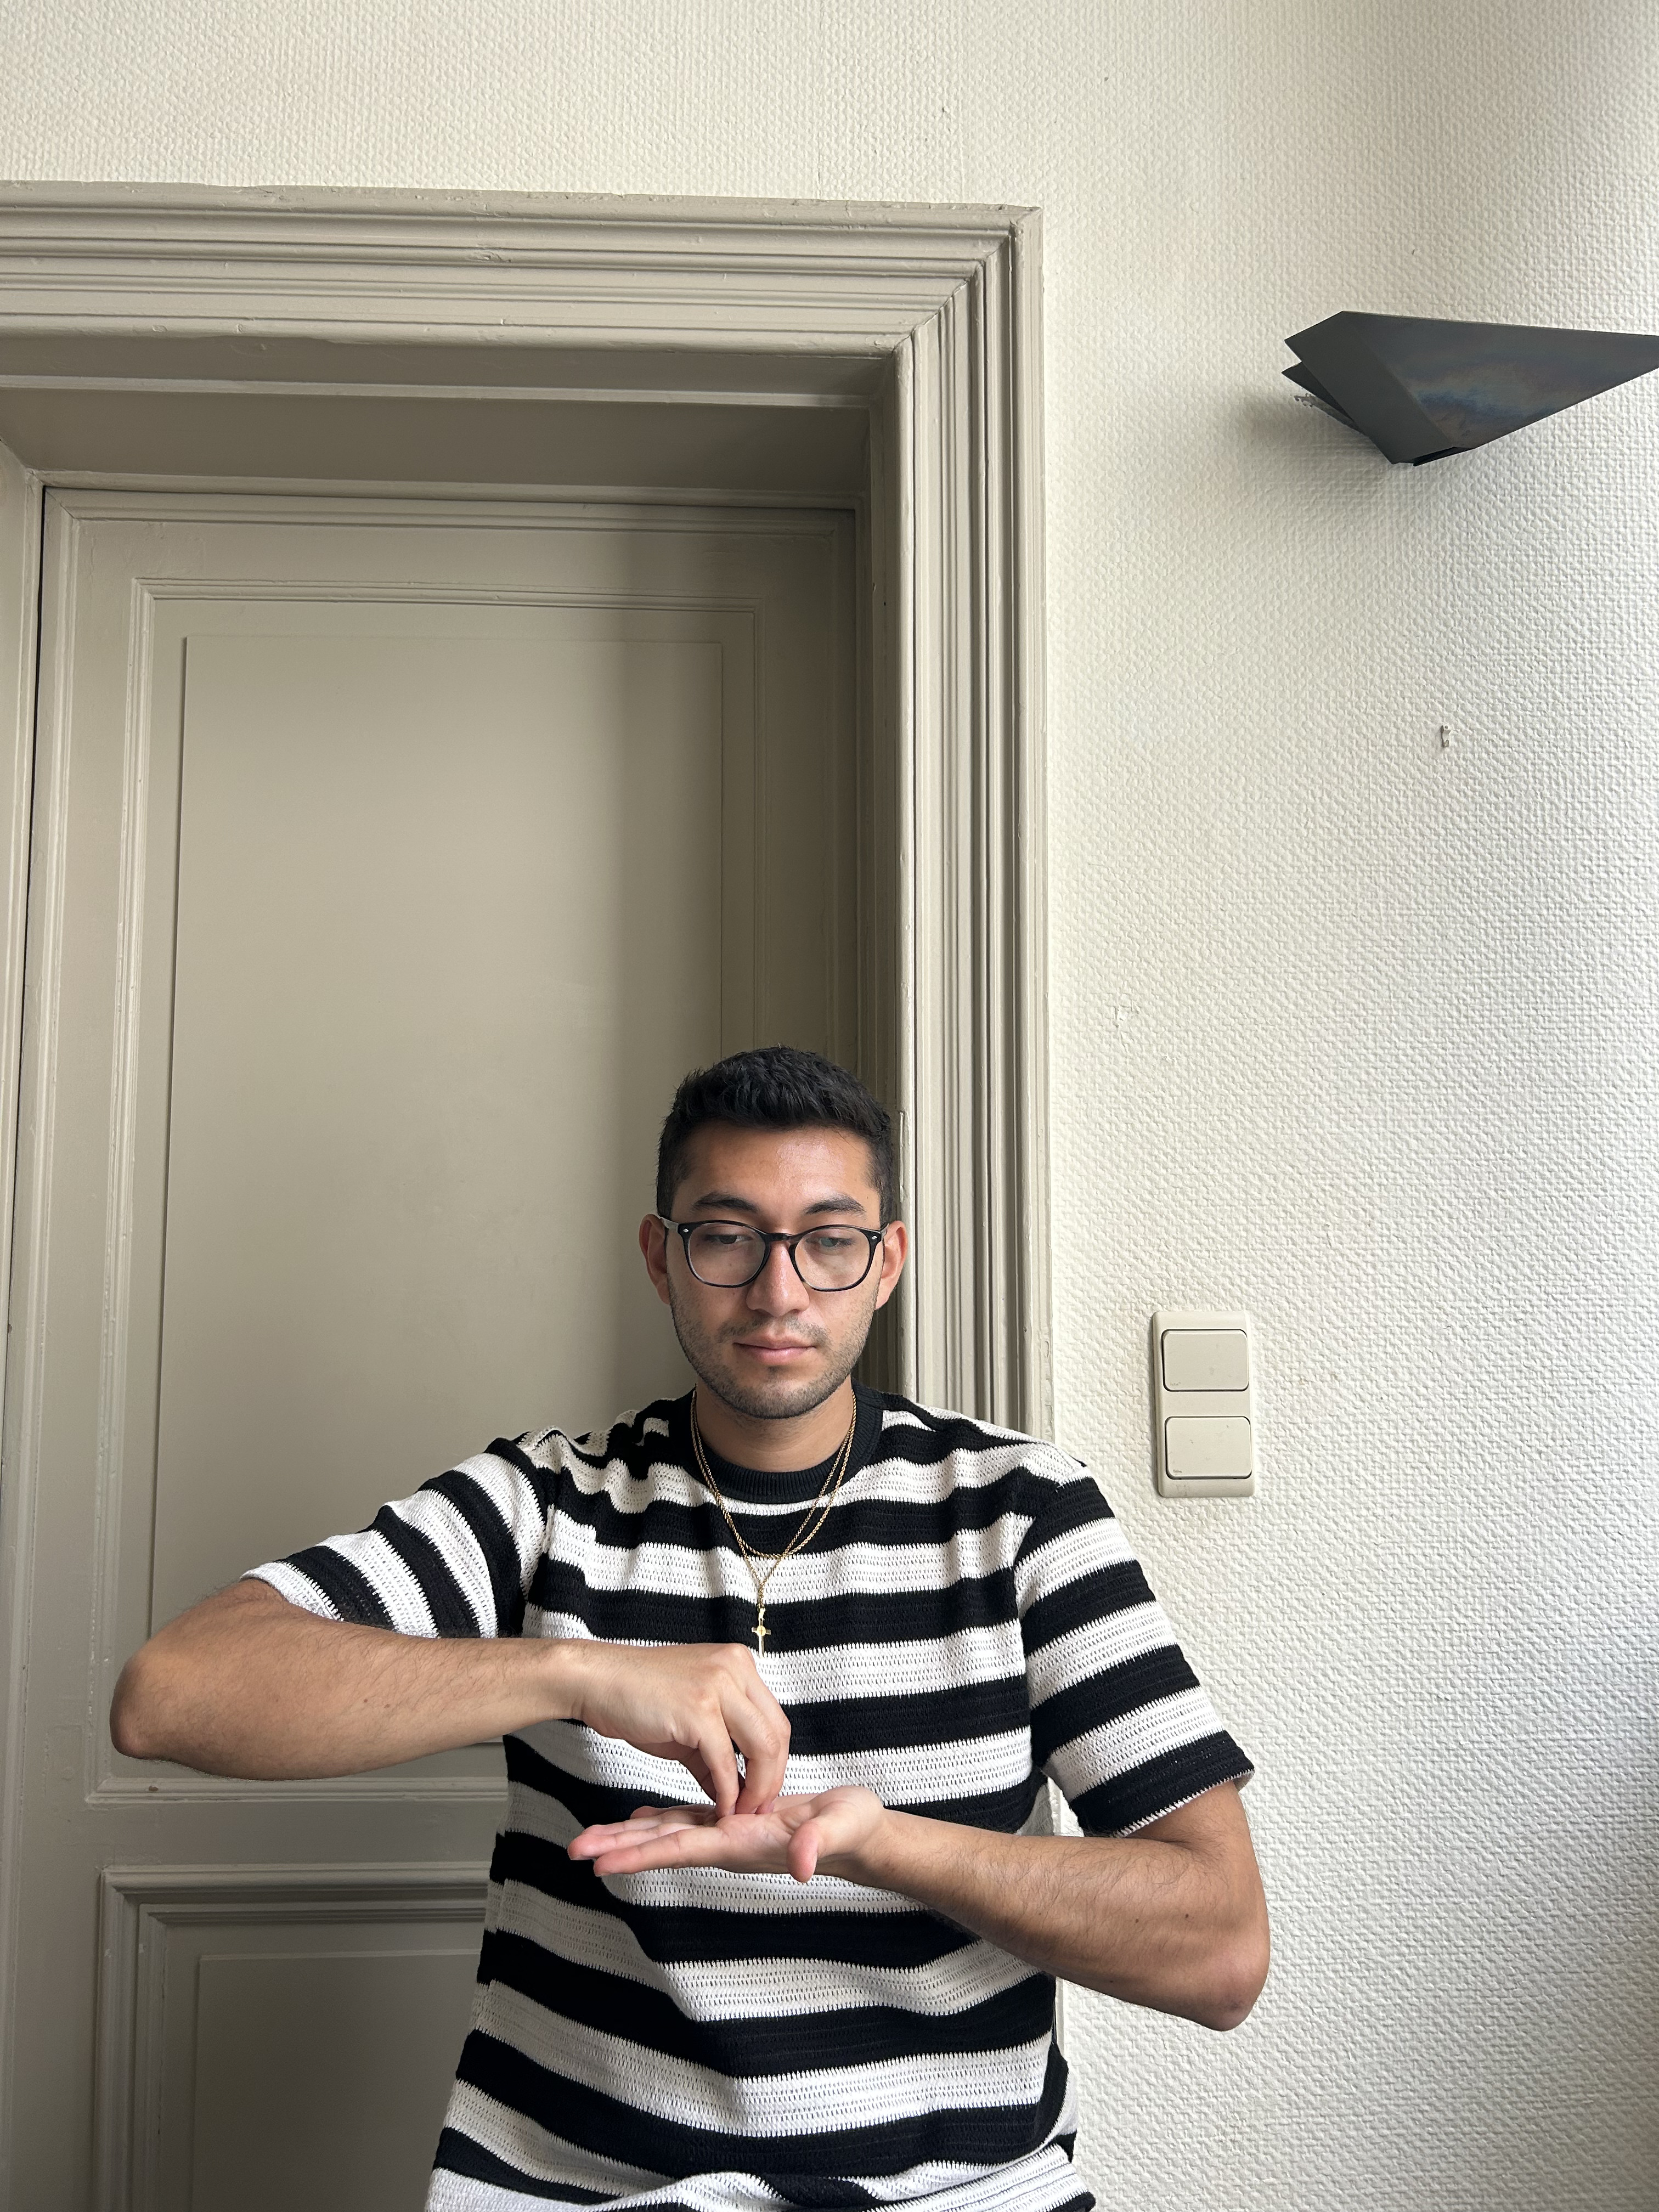learning: (106, 1042, 1274, 2207)
